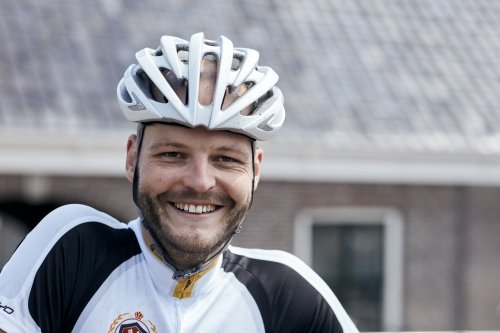helmet: (116, 31, 286, 253)
